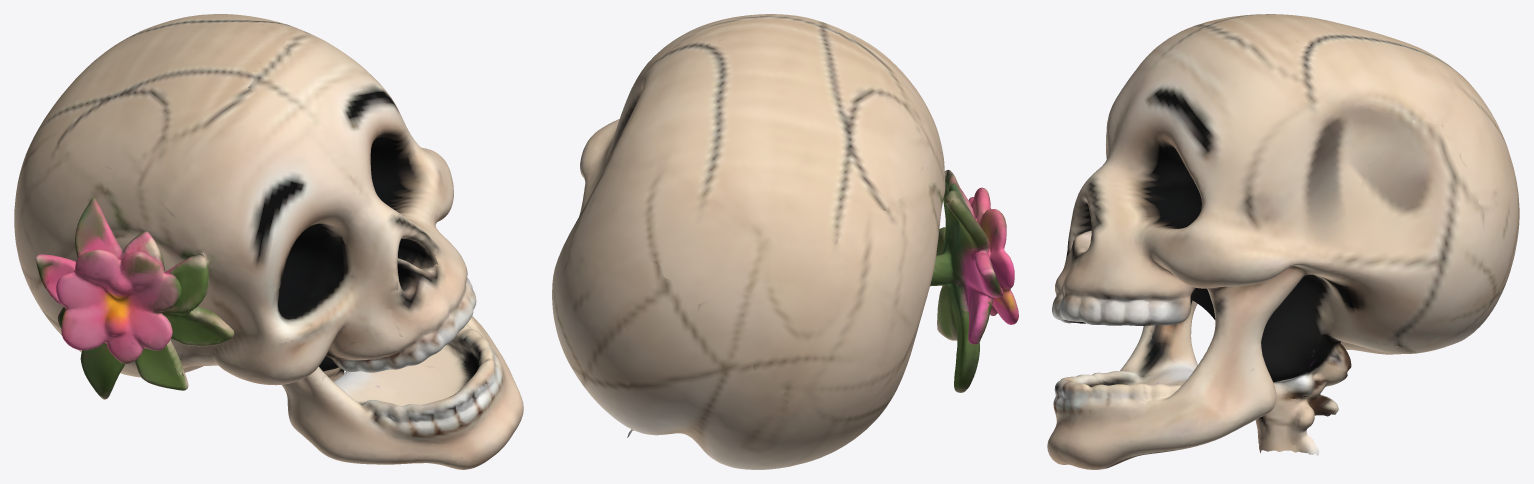
File: cabeza.obj
3 views of the same model, side by side, from view 1: azimuth 30°, elevation 25°; view 2: azimuth 150°, elevation 25°; view 3: azimuth 270°, elevation 25° (orthographic). The views are drawn at different scales.
Parts seen in each view (by area): view 1: cabeza; view 2: cabeza; view 3: cabeza.
Boxes of the visible parts, <box> form: cabeza: <box>14,14,523,469</box>; cabeza: <box>552,14,1018,469</box>; cabeza: <box>1047,14,1519,469</box>.
Bounding box in the file's own units: 0.307 × 0.2767 × 0.3078.
Materials: 1 (1 with a texture image).
